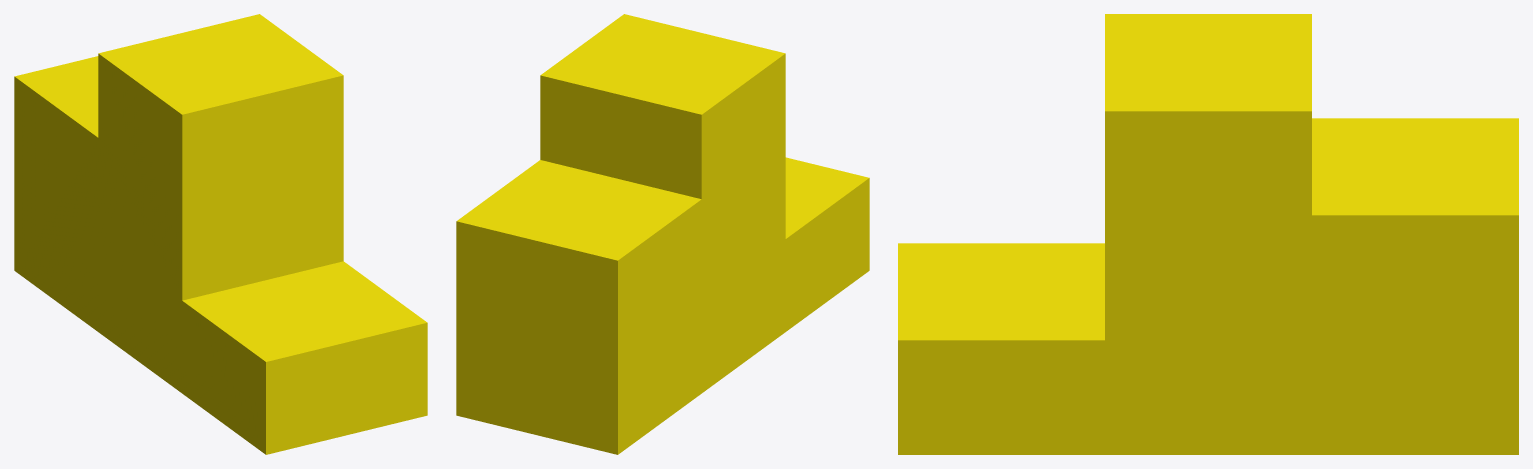
Rendered from modelo_didático_11.glb.
3 views of the same model, side by side, from view 1: azimuth 30°, elevation 25°; view 2: azimuth 150°, elevation 25°; view 3: azimuth 270°, elevation 25° (orthographic). The views are drawn at different scales.
Parts seen in each view (by area): view 1: Modelo didatico 11.SLDPRT; view 2: Modelo didatico 11.SLDPRT; view 3: Modelo didatico 11.SLDPRT.
Part boxes in pixels (bbox=[...]): Modelo didatico 11.SLDPRT: bbox=[14, 14, 427, 454]; Modelo didatico 11.SLDPRT: bbox=[456, 14, 869, 454]; Modelo didatico 11.SLDPRT: bbox=[898, 14, 1518, 454].
Bounding box in the file's own units: 0.02 × 0.033 × 0.054.
